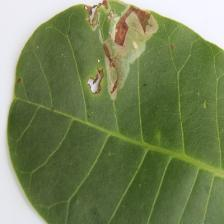leaf miner: (5, 0, 223, 223), (83, 0, 159, 101)
